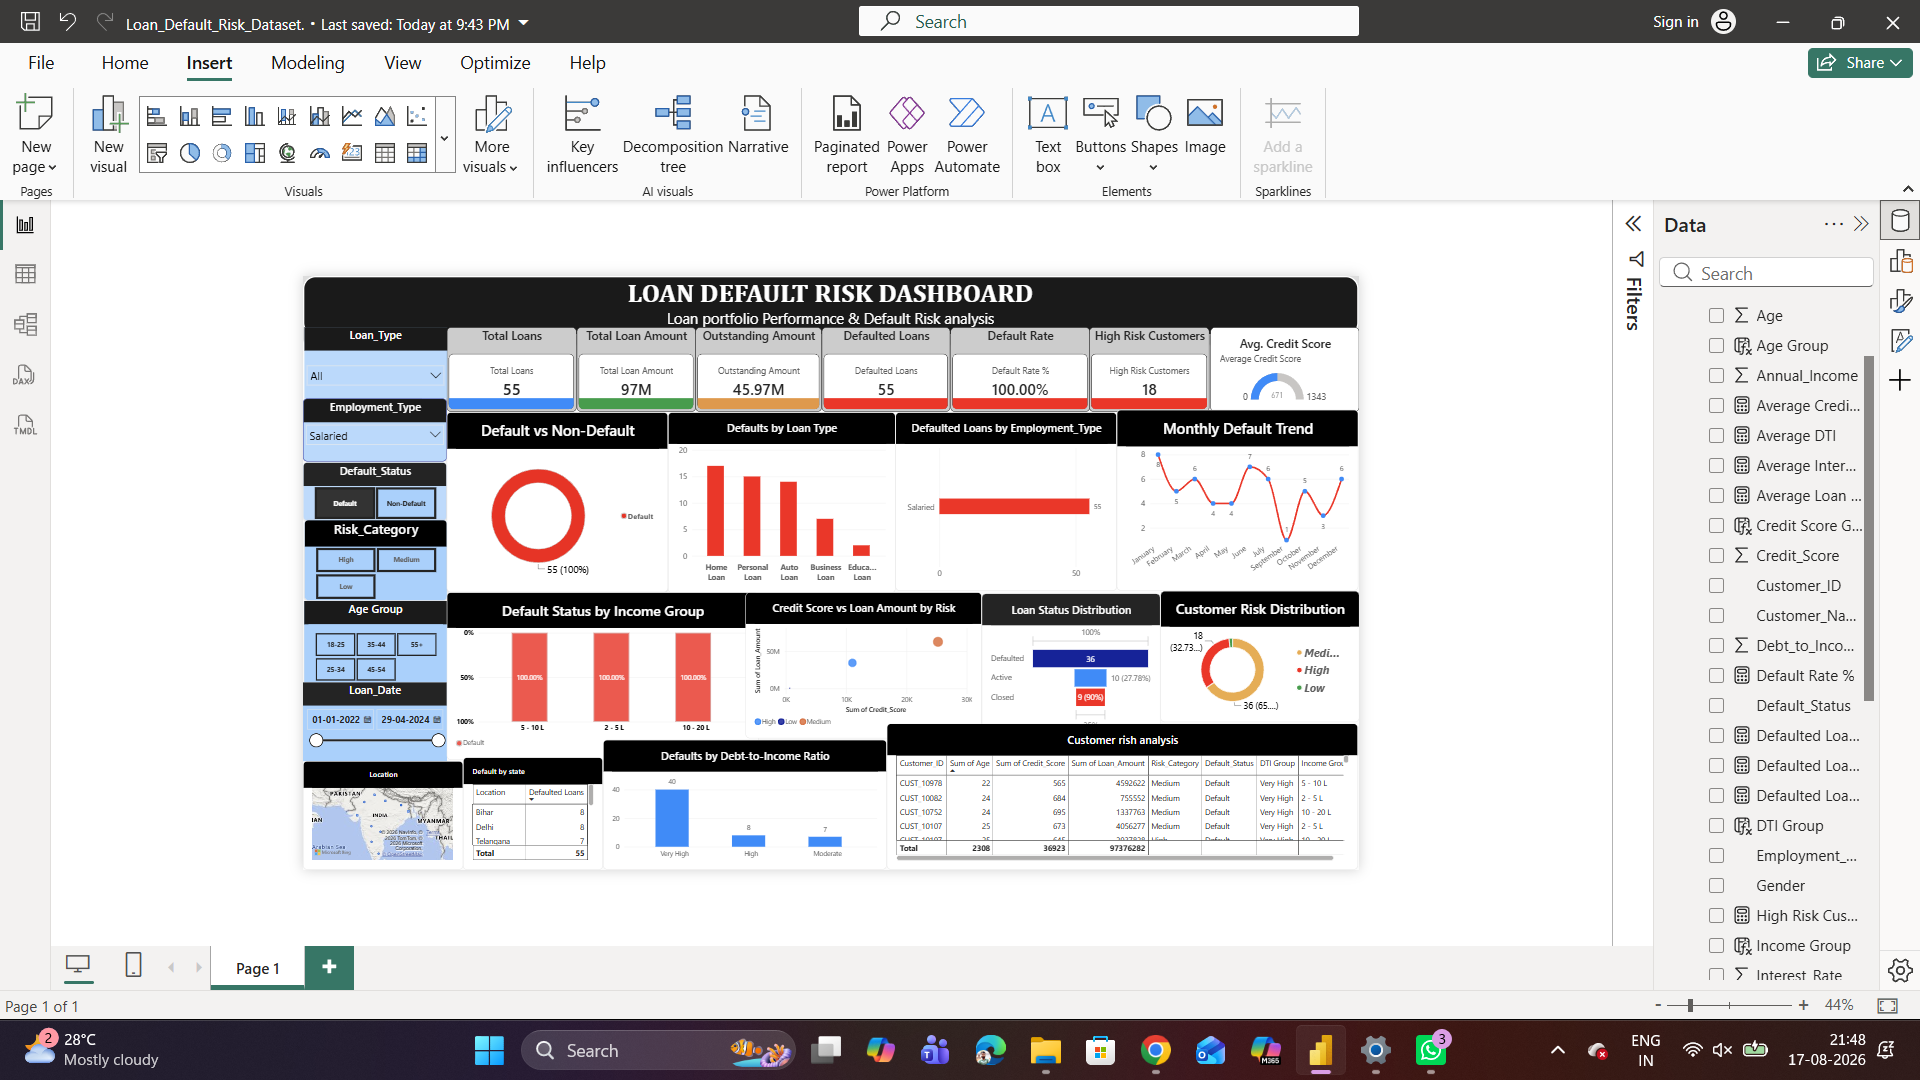

Layout of this report page (visuals, bound fields, positions):
{"tool":"powerbi","page":{"name":"Page 1","canvas":[1920,1080],"ordinal":0},"visuals":[{"type":"textbox","box":[0,0,1919.6,108.2],"z":0},{"type":"cardVisual","title":"Total Loans","fields":{"Data":["Loans.Total Loans"]},"box":[261.9,93.1,235.9,153.7],"z":1000},{"type":"cardVisual","title":"Total Loan Amount","fields":{"Data":["Loans.Total Loan Amount"]},"box":[497.8,93.1,216.4,153.7],"z":2000},{"type":"cardVisual","title":"Outstanding Amount","fields":{"Data":["Loans.Outstanding Amount"]},"box":[714.2,93.1,229.4,153.7],"z":3000},{"type":"cardVisual","title":"Defaulted Loans","fields":{"Data":["Loans.Defaulted Loans"]},"box":[943.6,93.1,233.7,153.7],"z":4000},{"type":"cardVisual","title":"Default Rate","fields":{"Data":["Loans.Default Rate %"]},"box":[1177.3,93.1,253.2,153.7],"z":5000},{"type":"cardVisual","title":"High Risk Customers","fields":{"Data":["Loans.High Risk Customers"]},"box":[1430.5,93.1,218.6,153.7],"z":6000},{"type":"gauge","title":"Avg. Credit Score","fields":{"Y":["Loans.Average Credit Score"]},"box":[1649.1,93.1,270.5,153.7],"z":7000},{"type":"slicer","title":"Loan_Type","fields":{"Values":["Loans.Loan_Type"]},"box":[2.2,93.1,259.7,129.8],"z":8000},{"type":"slicer","title":"Employment_Type","fields":{"Values":["Loans.Employment_Type"]},"box":[0,222.9,261.9,114.7],"z":9000},{"type":"slicer","title":"Default_Status","fields":{"Values":["Loans.Default_Status"]},"box":[0,337.6,261.9,106],"z":10000},{"type":"slicer","title":"Risk_Category","fields":{"Values":["Loans.Risk_Category"]},"box":[2.2,443.6,259.7,147.2],"z":11000},{"type":"slicer","title":"Loan_Date","fields":{"Values":["Loans.Loan_Date"]},"box":[0,738,261.9,142.8],"z":12000},{"type":"slicer","title":"Age Group","fields":{"Values":["Loans.Age Group"]},"box":[2.2,590.8,259.7,147.2],"z":13000},{"type":"donutChart","title":"Default vs Non-Default","fields":{"Category":["Loans.Default_Status"],"Y":["CountNonNull(Loans.Customer_ID)"]},"box":[261.4,247.7,402.3,327.3],"z":14000},{"type":"columnChart","title":"Defaults by Loan Type","fields":{"Category":["Loans.Loan_Type"],"Y":["Loans.Defaulted Loans"]},"box":[664.4,246.7,413.4,328.9],"z":15000},{"type":"clusteredBarChart","fields":{"Category":["Loans.Employment_Type"],"Y":["Loans.Defaulted Loans"]},"box":[1077.7,246.7,402.5,324.6],"z":16000},{"type":"lineChart","title":"Monthly Default Trend","fields":{"Category":["Loans.Loan_Date.Variation.Date Hierarchy.Month"],"Y":["Loans.Defaulted Loans"]},"box":[1480.3,242.4,439.3,328.9],"z":17000},{"type":"hundredPercentStackedColumnChart","title":"Default Status by Income Group","fields":{"Category":["Loans.Income Group"],"Series":["Loans.Default_Status"],"Y":["CountNonNull(Loans.Customer_ID)"]},"box":[261.9,575.7,567,305.1],"z":18000},{"type":"donutChart","title":"Customer Risk Distribution","fields":{"Category":["Loans.Risk_Category"],"Y":["CountNonNull(Loans.Customer_ID)"]},"box":[1559.1,572.7,361.4,238.6],"z":19000},{"type":"scatterChart","title":"Credit Score vs Loan Amount by Risk","fields":{"Series":["Loans.Risk_Category"],"Size":["Loans.Outstanding Amount"],"X":["Sum(Loans.Credit_Score)"],"Y":["Sum(Loans.Loan_Amount)"]},"box":[804.5,575,429.5,265.9],"z":20000},{"type":"clusteredColumnChart","title":"Defaults by Debt-to-Income Ratio","fields":{"Category":["Loans.DTI Group"],"Y":["Loans.Defaulted Loans"]},"box":[545.5,843.2,515.9,236.4],"z":21000},{"type":"funnel","title":"Loan Status Distribution","fields":{"Category":["Loans.Loan_Status"],"Y":["CountNonNull(Loans.Customer_ID)"]},"box":[1233.6,577.8,324.6,266.2],"z":22000},{"type":"map","title":"Location","fields":{"Category":["Loans.Location"],"Y":["Loans.Defaulted Loans"]},"box":[0,881.8,290.9,197.7],"z":23000},{"type":"tableEx","title":"Default by state","fields":{"Values":["Loans.Location","Loans.Defaulted Loans"]},"box":[290.9,875,254.5,204.5],"z":24000},{"type":"tableEx","title":"Customer rish analysis","fields":{"Values":["Loans.Customer_ID","Sum(Loans.Age)","Sum(Loans.Credit_Score)","Sum(Loans.Loan_Amount)","Loans.Risk_Category","Loans.Default_Status","Loans.DTI Group","Loans.Income Group"]},"box":[1061.4,813.6,856.8,265.9],"z":25000}]}

Visuals, with their boxes on the page's 1920x1080 design canvas (x1, y1, x2, y2). These are canvas units, not pixel positions in the 1920x1080 screenshot, which may show the page scaled, cropped or inside an application window:
textbox: bbox=(0, 0, 1920, 108)
"Total Loans" cardVisual: bbox=(262, 93, 498, 247)
"Total Loan Amount" cardVisual: bbox=(498, 93, 714, 247)
"Outstanding Amount" cardVisual: bbox=(714, 93, 944, 247)
"Defaulted Loans" cardVisual: bbox=(944, 93, 1177, 247)
"Default Rate" cardVisual: bbox=(1177, 93, 1430, 247)
"High Risk Customers" cardVisual: bbox=(1430, 93, 1649, 247)
"Avg. Credit Score" gauge: bbox=(1649, 93, 1920, 247)
"Loan_Type" slicer: bbox=(2, 93, 262, 223)
"Employment_Type" slicer: bbox=(0, 223, 262, 338)
"Default_Status" slicer: bbox=(0, 338, 262, 444)
"Risk_Category" slicer: bbox=(2, 444, 262, 591)
"Loan_Date" slicer: bbox=(0, 738, 262, 881)
"Age Group" slicer: bbox=(2, 591, 262, 738)
"Default vs Non-Default" donutChart: bbox=(261, 248, 664, 575)
"Defaults by Loan Type" columnChart: bbox=(664, 247, 1078, 576)
clusteredBarChart - Loans.Employment_Type x Loans.Defaulted Loans: bbox=(1078, 247, 1480, 571)
"Monthly Default Trend" lineChart: bbox=(1480, 242, 1920, 571)
"Default Status by Income Group" hundredPercentStackedColumnChart: bbox=(262, 576, 829, 881)
"Customer Risk Distribution" donutChart: bbox=(1559, 573, 1920, 811)
"Credit Score vs Loan Amount by Risk" scatterChart: bbox=(804, 575, 1234, 841)
"Defaults by Debt-to-Income Ratio" clusteredColumnChart: bbox=(546, 843, 1061, 1080)
"Loan Status Distribution" funnel: bbox=(1234, 578, 1558, 844)
"Location" map: bbox=(0, 882, 291, 1080)
"Default by state" tableEx: bbox=(291, 875, 545, 1080)
"Customer rish analysis" tableEx: bbox=(1061, 814, 1918, 1080)
